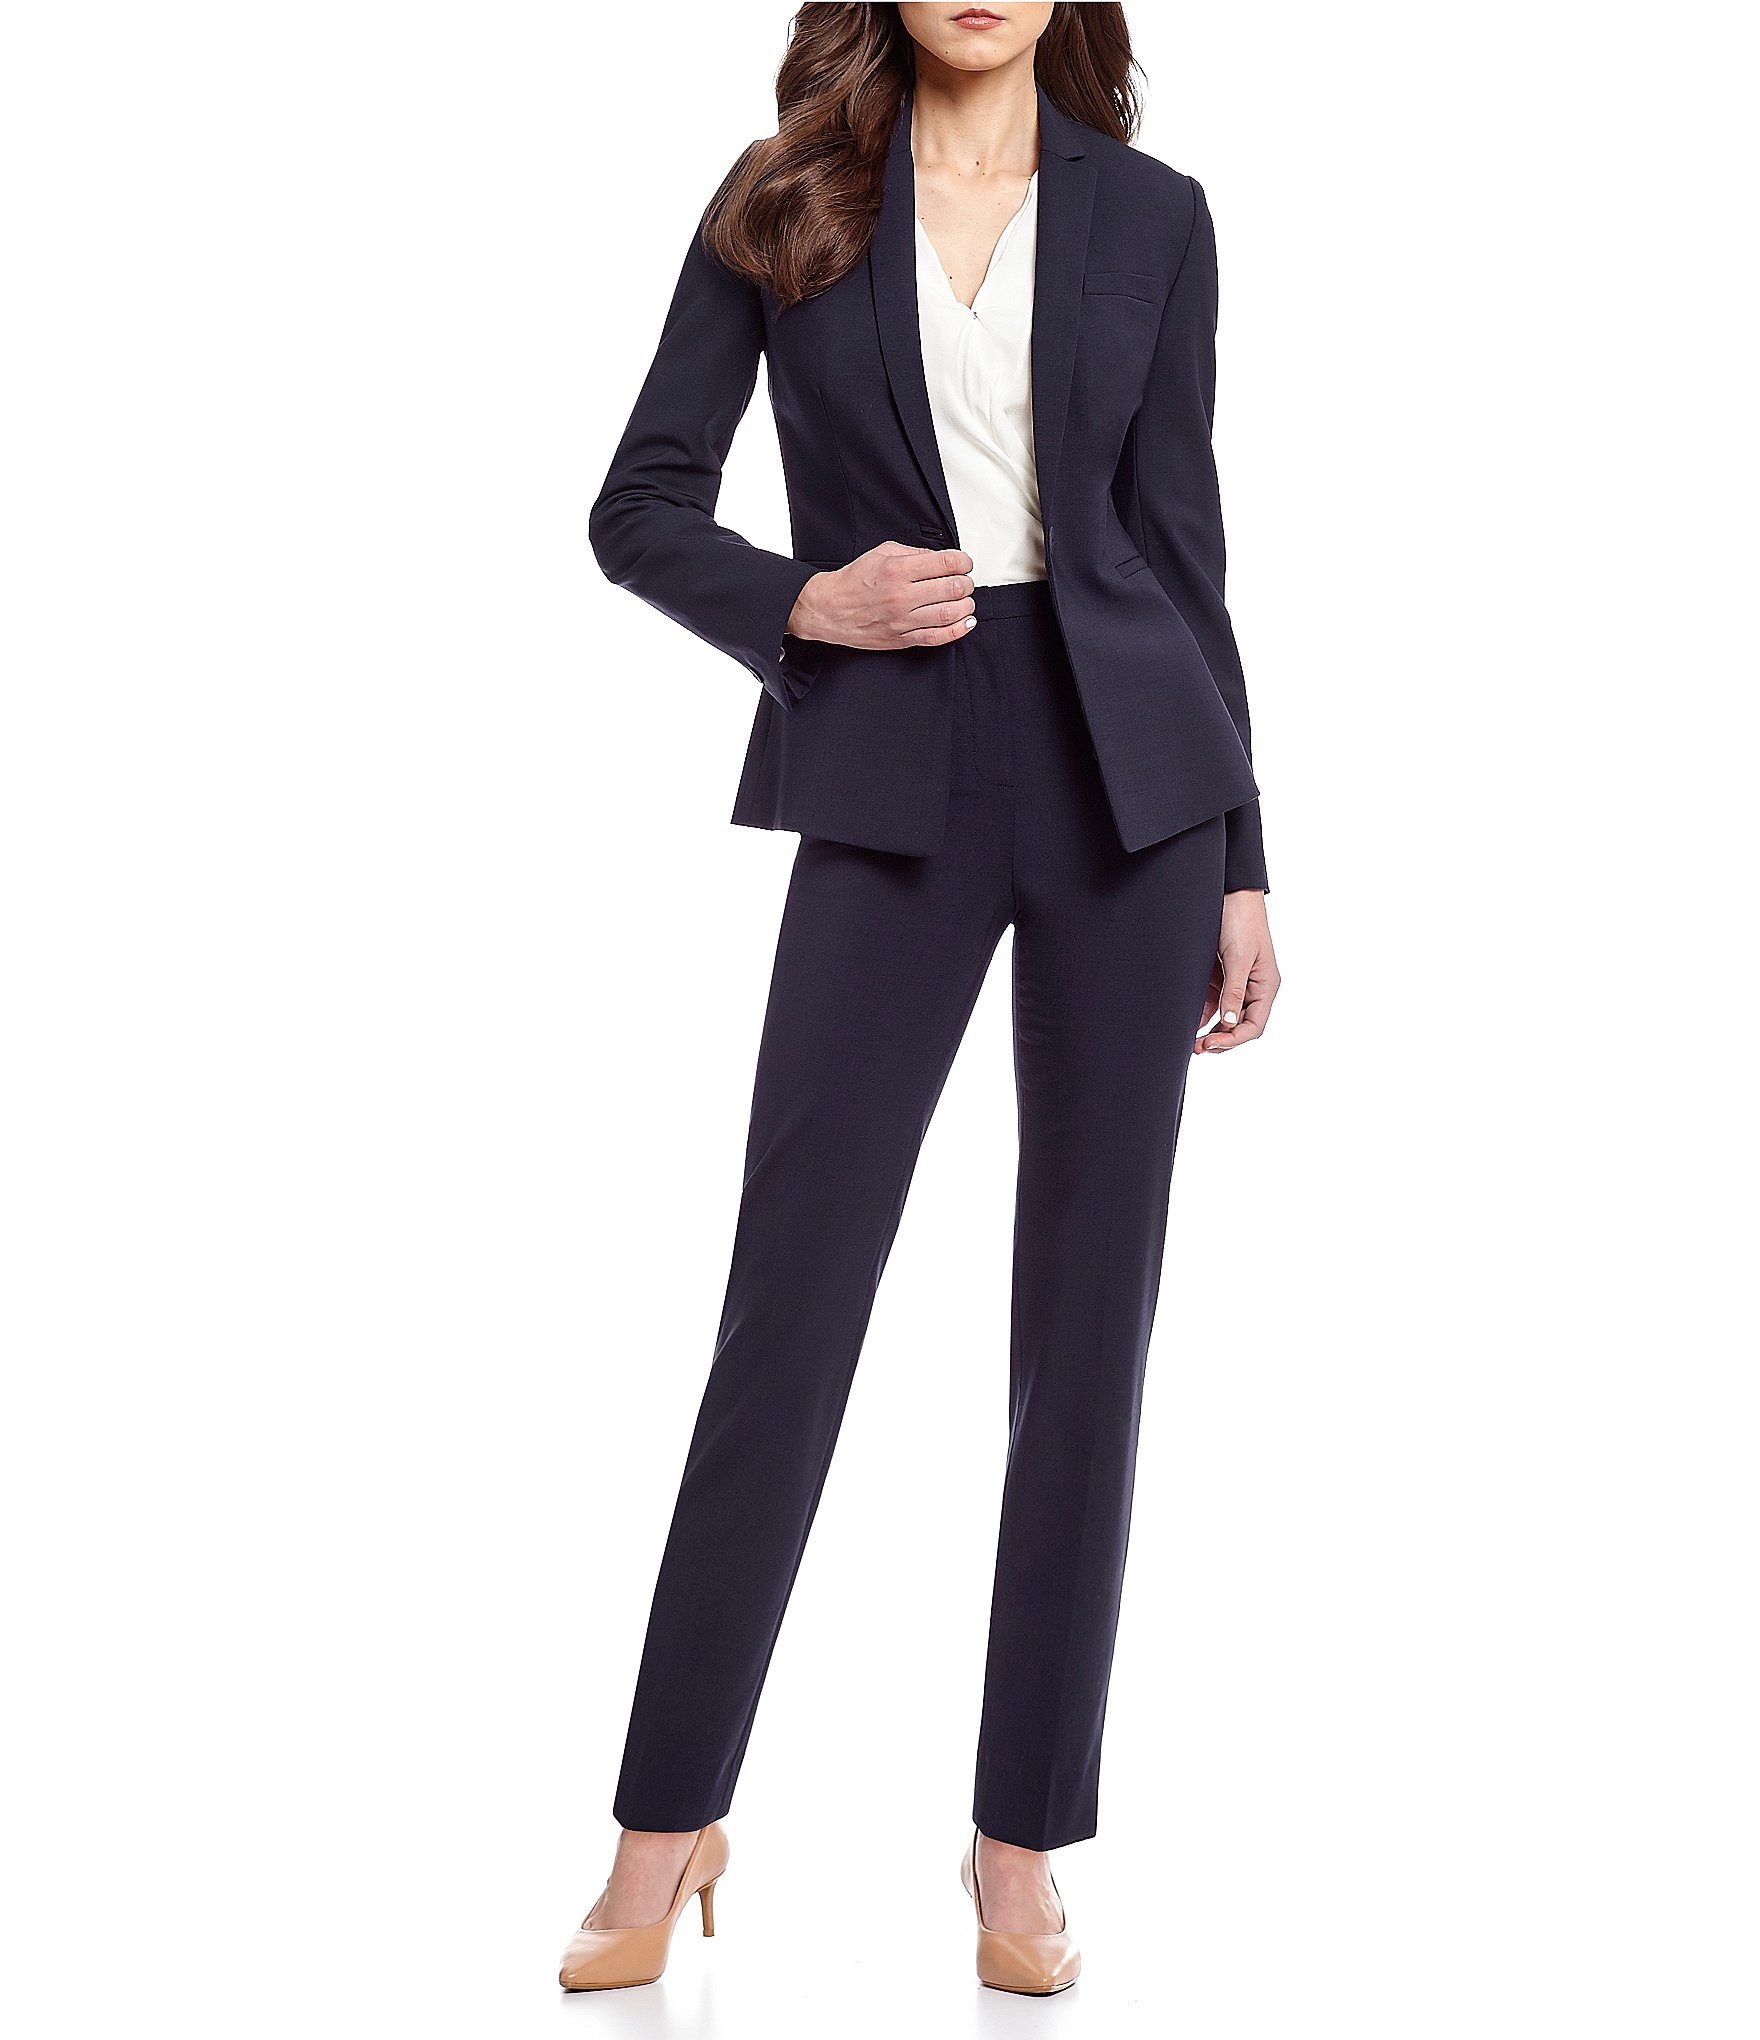feet: (553, 1573, 1105, 2011)
